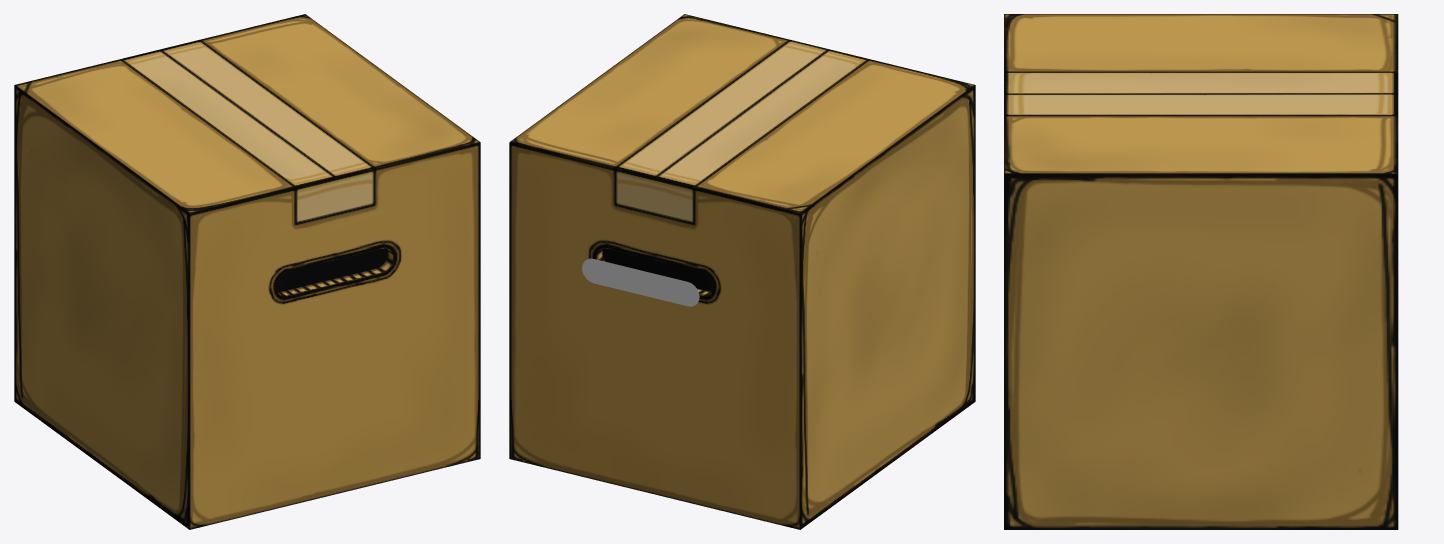
3 renders of one model, left to right at view 1: azimuth 30°, elevation 25°; view 2: azimuth 150°, elevation 25°; view 3: azimuth 270°, elevation 25°, orthographic. The views are drawn at different scales.
Parts seen in each view (by area): view 1: Plane; view 2: Plane, Cube; view 3: Plane.
Part boxes in pixels (x1,y1,x2,y2): Plane: (14, 14, 480, 529); Plane: (509, 14, 975, 529); Cube: (582, 258, 699, 306); Plane: (1004, 14, 1398, 529).
Bounding box in the file's own units: 62.56 × 65.06 × 70.49.
